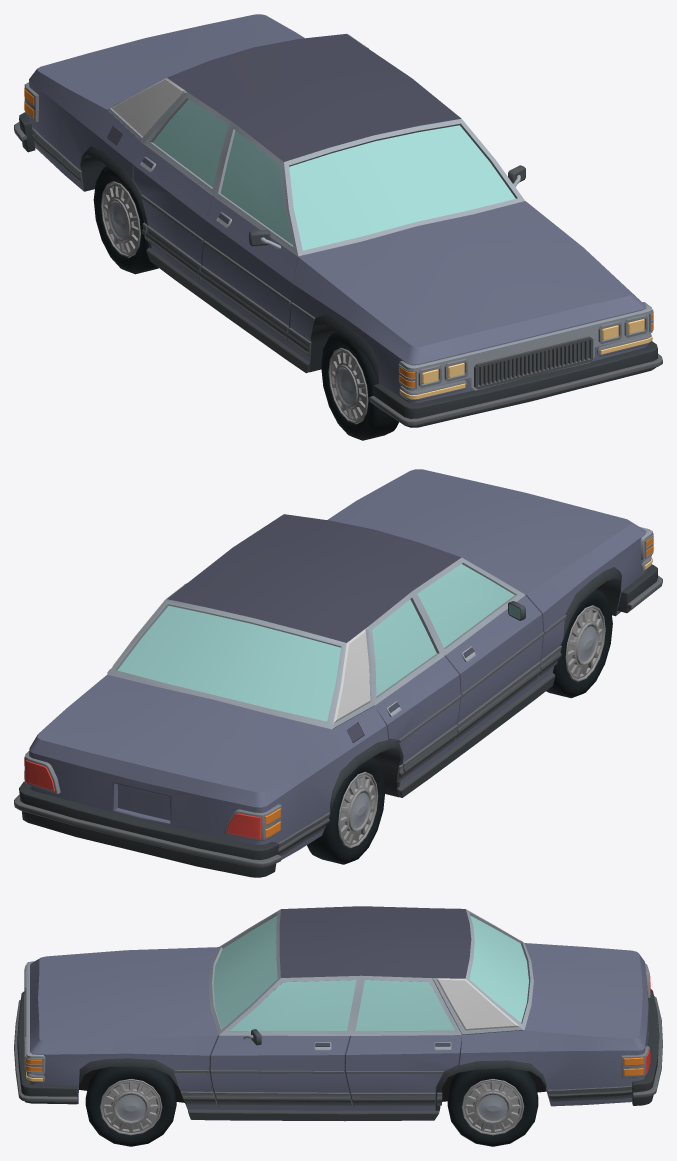
Rendered from SM_Vehicles_01_V1.fbx.
The picture shows the model from 3 angles, top to bottom: view 1: azimuth 30°, elevation 25°; view 2: azimuth 150°, elevation 25°; view 3: azimuth 270°, elevation 25°; orthographic projection. The views are drawn at different scales.
Visible parts, largest first — view 1: SM_Vehicles_01_V1, SM_Vehicles_01_FR, SM_Vehicles_01_RR; view 2: SM_Vehicles_01_V1, SM_Vehicles_01_RR, SM_Vehicles_01_FR; view 3: SM_Vehicles_01_V1, SM_Vehicles_01_FL, SM_Vehicles_01_RL.
Part boxes in pixels (x1=…): SM_Vehicles_01_V1: x1=14, y1=14, x2=662, y2=427; SM_Vehicles_01_FR: x1=321, y1=331, x2=398, y2=440; SM_Vehicles_01_RR: x1=93, y1=166, x2=158, y2=274; SM_Vehicles_01_V1: x1=14, y1=469, x2=662, y2=877; SM_Vehicles_01_RR: x1=307, y1=757, x2=385, y2=864; SM_Vehicles_01_FR: x1=546, y1=589, x2=612, y2=698; SM_Vehicles_01_V1: x1=14, y1=906, x2=662, y2=1121; SM_Vehicles_01_FL: x1=85, y1=1066, x2=176, y2=1146; SM_Vehicles_01_RL: x1=447, y1=1068, x2=538, y2=1146.
Size of the model in its own units: 1.92 by 1.39 by 4.93.
